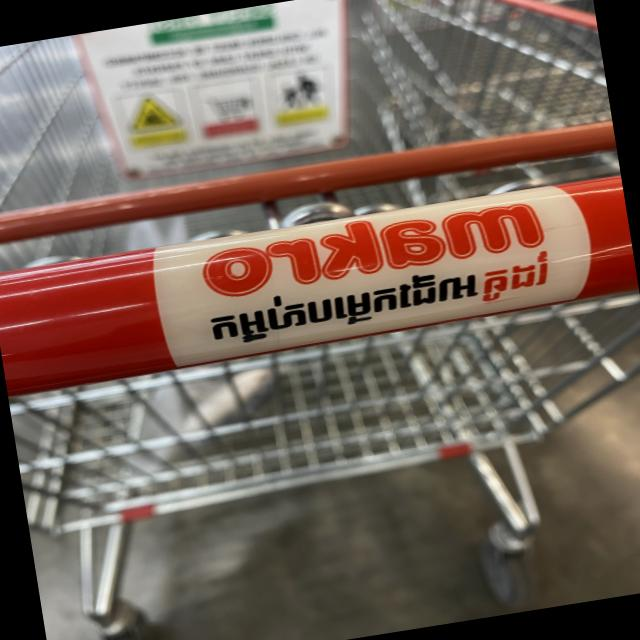Yolov11_80vkh: (189, 247, 562, 361)
